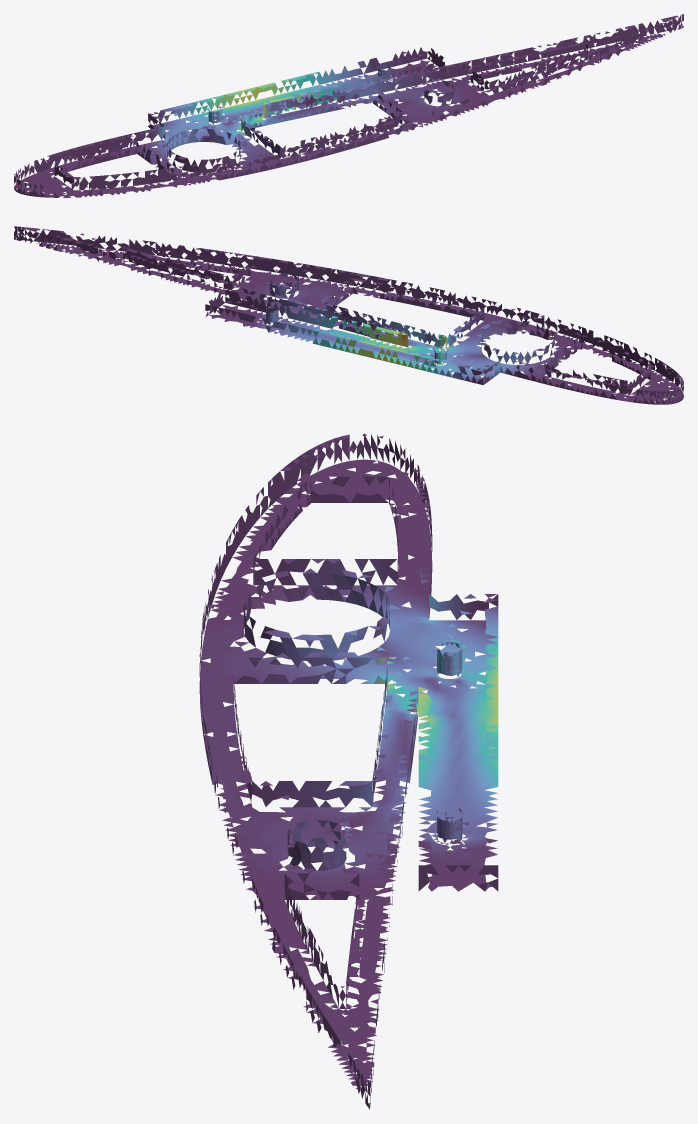
File: RIB-B.glb
3 views of the same model, one above another, from view 1: azimuth 30°, elevation 25°; view 2: azimuth 150°, elevation 25°; view 3: azimuth 270°, elevation 25° (orthographic). The views are drawn at different scales.
Parts seen in each view (by area): view 1: geometry_0; view 2: geometry_0; view 3: geometry_0.
Part boxes in pixels (box(x1,y1,x2,y2)): geometry_0: box(14, 14, 683, 197); geometry_0: box(14, 226, 683, 404); geometry_0: box(199, 433, 498, 1109).
Bounding box in the file's own units: 316 × 6 × 61.38.
